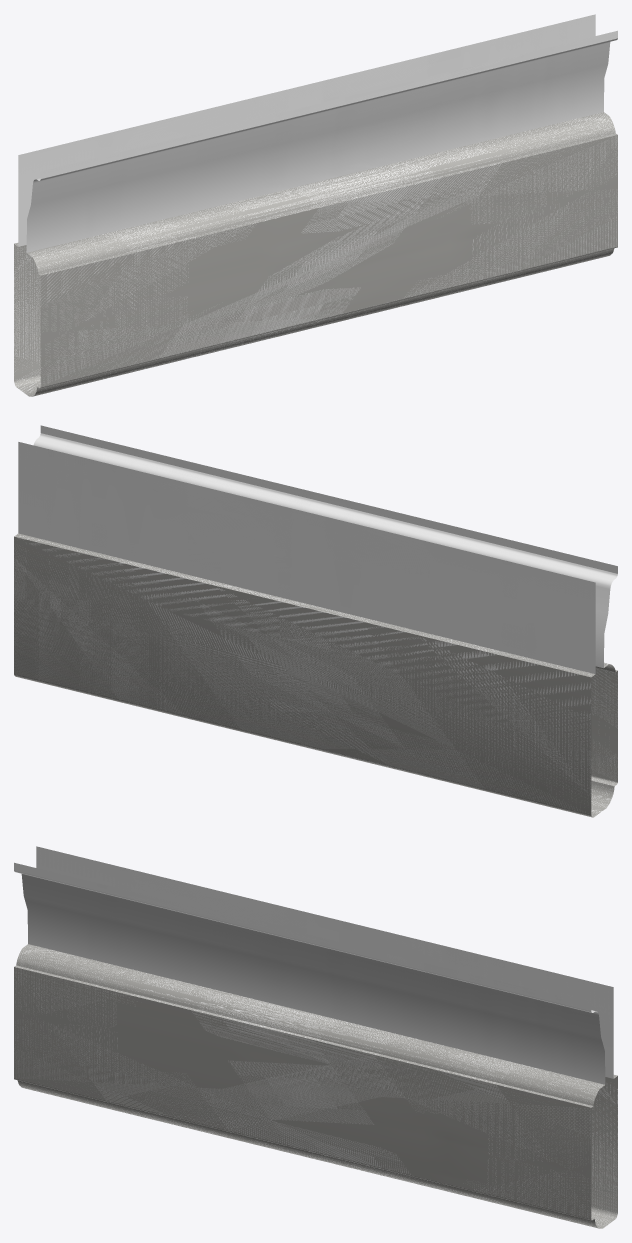
The model's file is original-50.obj.
The picture shows the model from 3 angles, top to bottom: view 1: azimuth 30°, elevation 25°; view 2: azimuth 150°, elevation 25°; view 3: azimuth 330°, elevation 25°; orthographic projection.
Parts seen in each view (by area): view 1: RT_21_BC1/RT_21_BC/mesh38/mesh38-geometry#mesh38-geometry; view 2: RT_21_BC1/RT_21_BC/mesh38/mesh38-geometry#mesh38-geometry; view 3: RT_21_BC1/RT_21_BC/mesh38/mesh38-geometry#mesh38-geometry.
Part boxes in pixels (x1=…): RT_21_BC1/RT_21_BC/mesh38/mesh38-geometry#mesh38-geometry: x1=14, y1=14, x2=617, y2=396; RT_21_BC1/RT_21_BC/mesh38/mesh38-geometry#mesh38-geometry: x1=14, y1=425, x2=617, y2=817; RT_21_BC1/RT_21_BC/mesh38/mesh38-geometry#mesh38-geometry: x1=14, y1=846, x2=617, y2=1228.
Size of the model in its own units: 0.3476 by 0.1344 by 0.0278.
